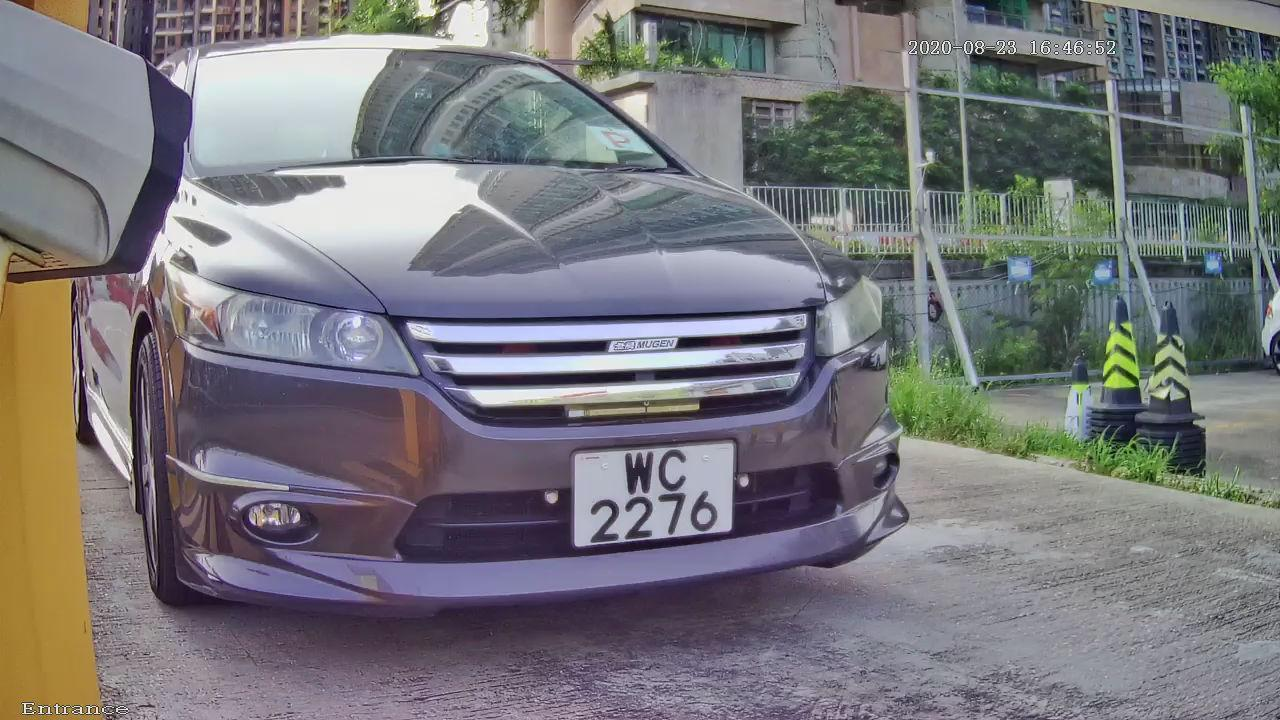Car: (35, 1, 983, 682)
License Plate: (513, 423, 789, 592)
